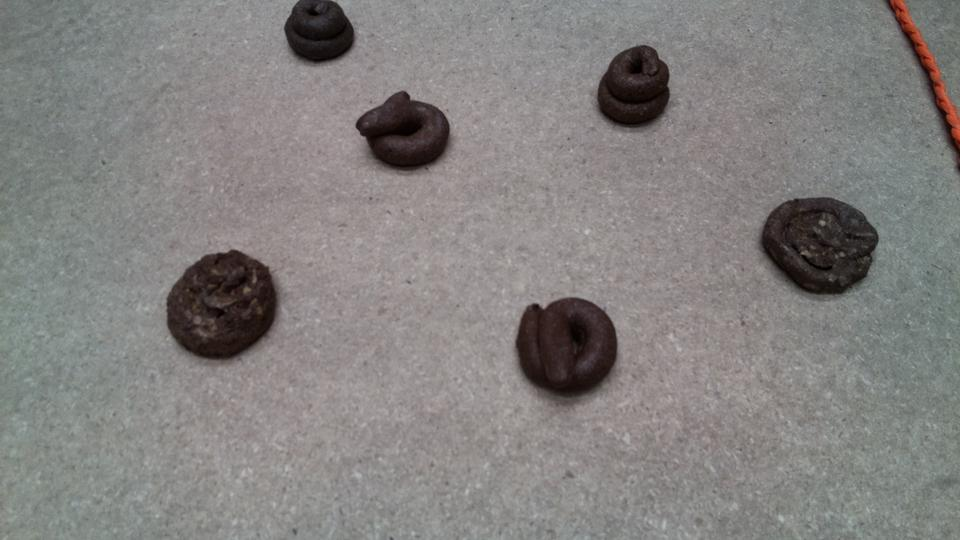poop: (162, 246, 282, 364), (757, 191, 883, 300), (511, 293, 625, 402), (351, 89, 458, 173), (595, 41, 675, 129), (281, 1, 359, 67)
rope: (887, 1, 960, 151)
